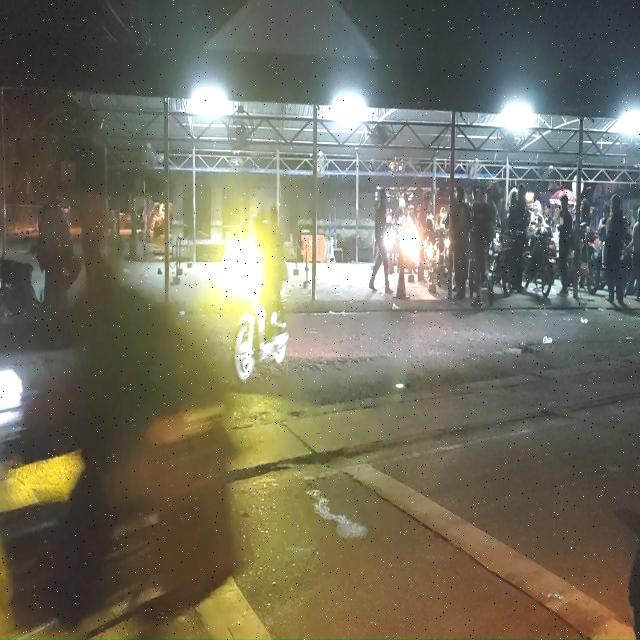Golongan II: (0, 373, 233, 637), (223, 241, 289, 382), (0, 258, 41, 320), (522, 226, 557, 297), (487, 232, 513, 303), (568, 222, 594, 287), (424, 229, 449, 287), (400, 226, 423, 282), (586, 233, 606, 295)
